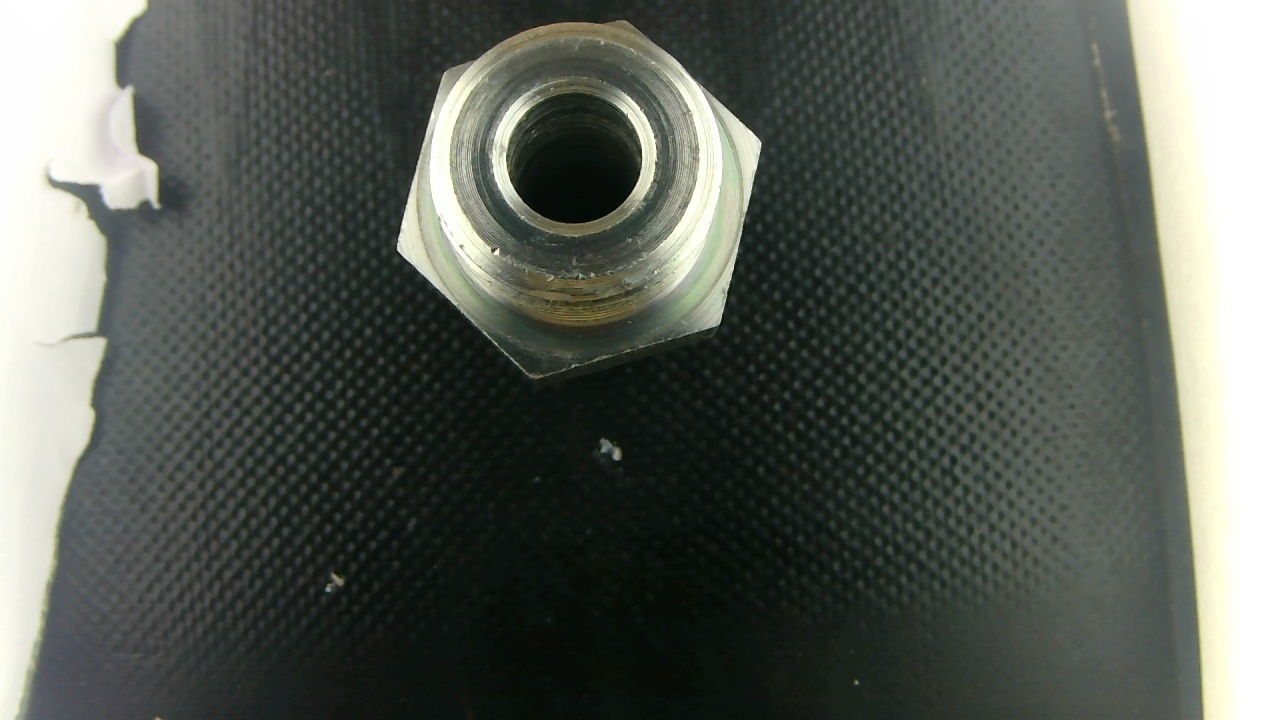SurfaceDent_Adaptor: (573, 267, 602, 281)
